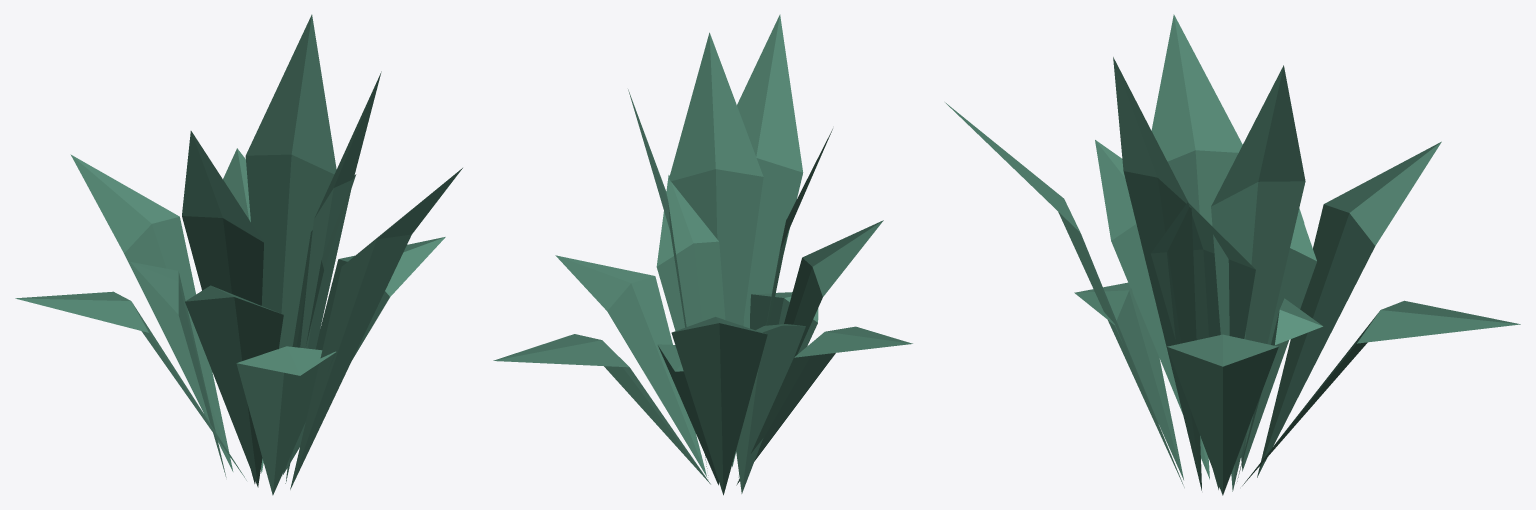
File: agave_lod1.glb
3 renders of one model, left to right at view 1: azimuth 30°, elevation 25°; view 2: azimuth 150°, elevation 25°; view 3: azimuth 270°, elevation 25°, orthographic. The views are drawn at different scales.
Visible parts, largest first — view 1: agave; view 2: agave; view 3: agave.
Boxes of the visible parts, left/top/right/bottom form: agave: left=15, top=14, right=462, bottom=495; agave: left=493, top=14, right=912, bottom=495; agave: left=945, top=14, right=1520, bottom=495.
Size of the model in its own units: 0.7094 by 0.7142 by 0.8058.
